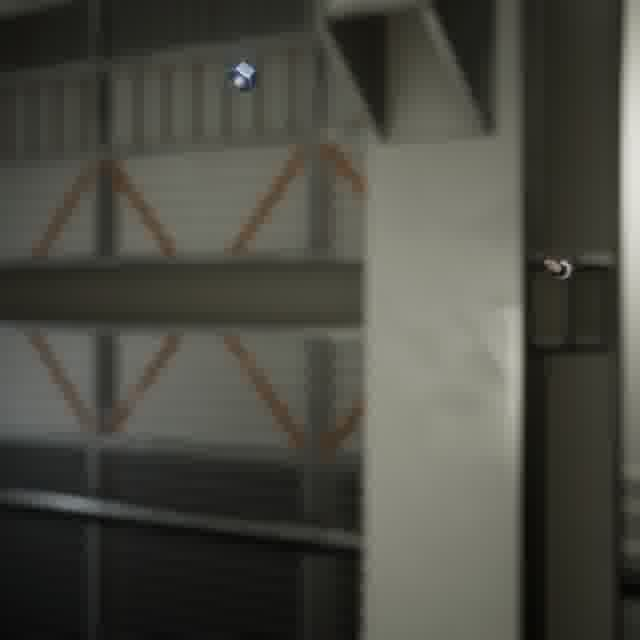bolt: (540, 254, 577, 285)
nut: (222, 56, 262, 95)
